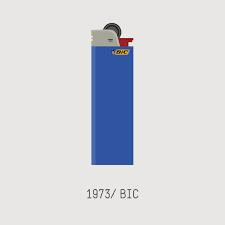lighter: (89, 22, 136, 168)
